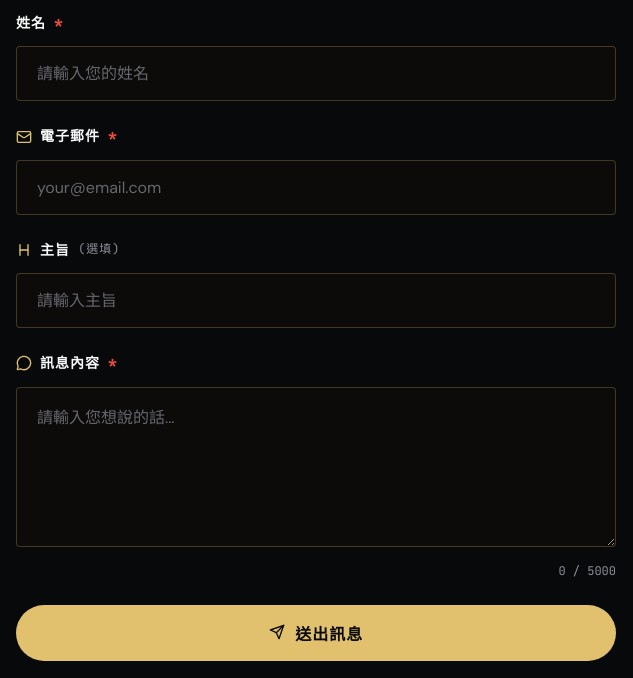
it: ContactForm › 字數計算 › 應該顯示訊息字數
Type "測試訊息" into the text box with id "message" at [316, 467], box [16,387,616,547]
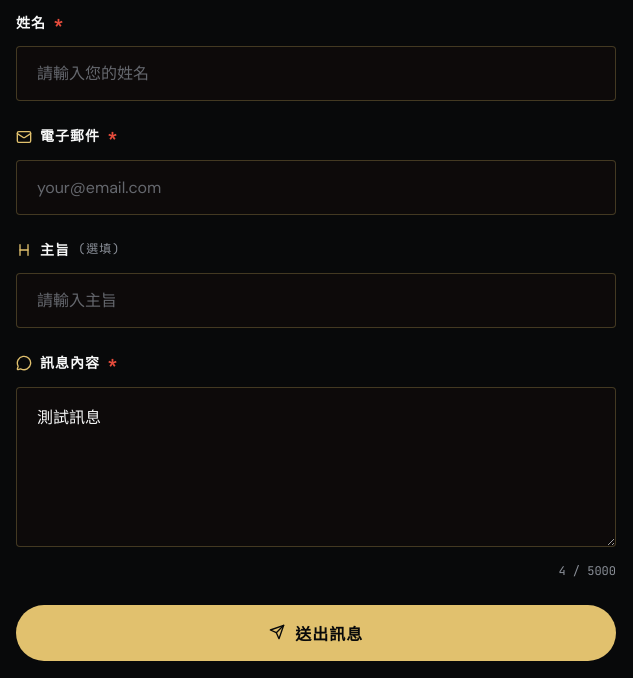
Check: the text with class "char-count" shows "4", box [558,563,616,579]
